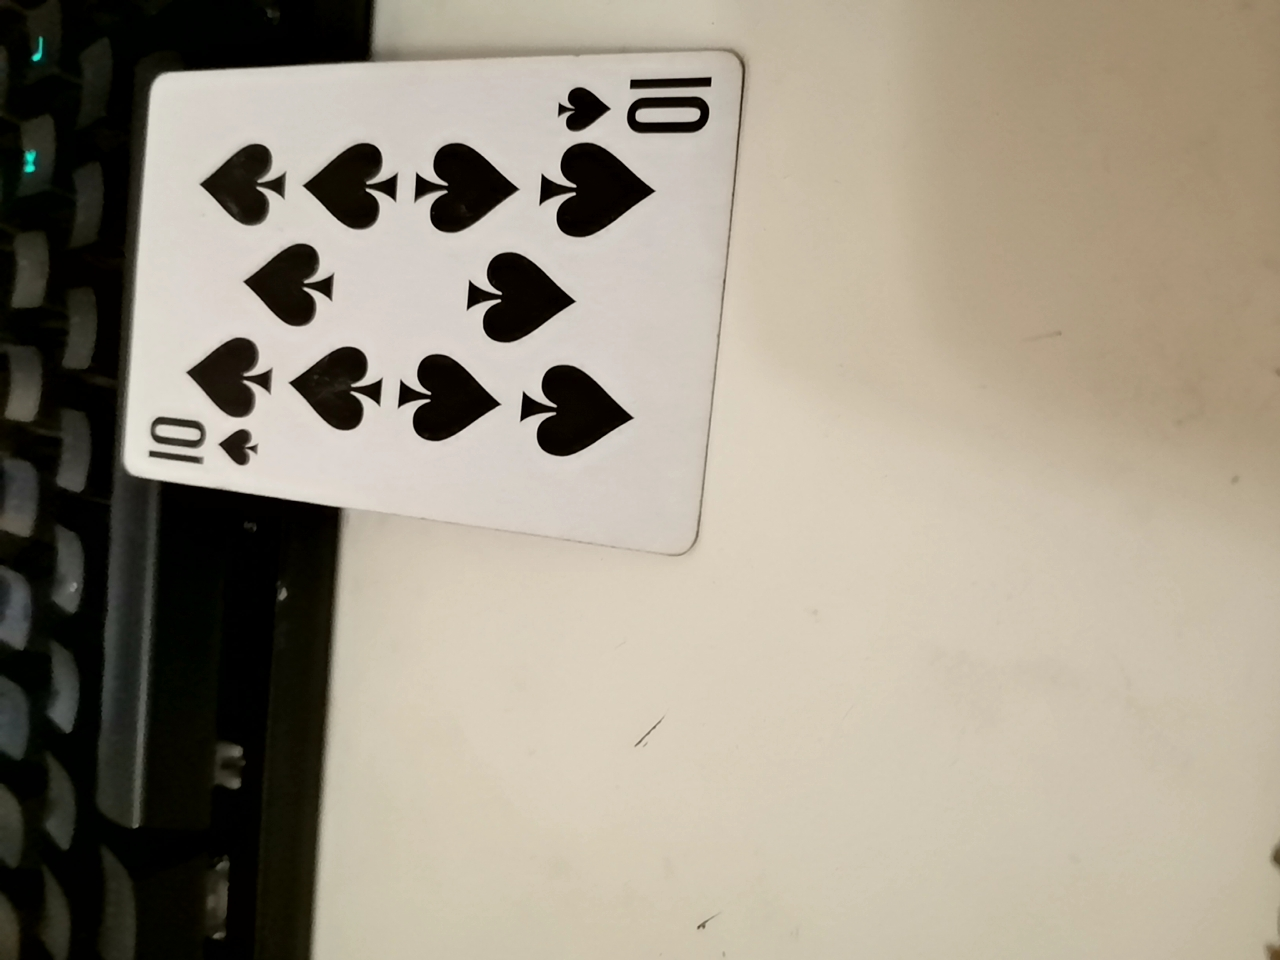ht 10: (111, 53, 715, 542)
